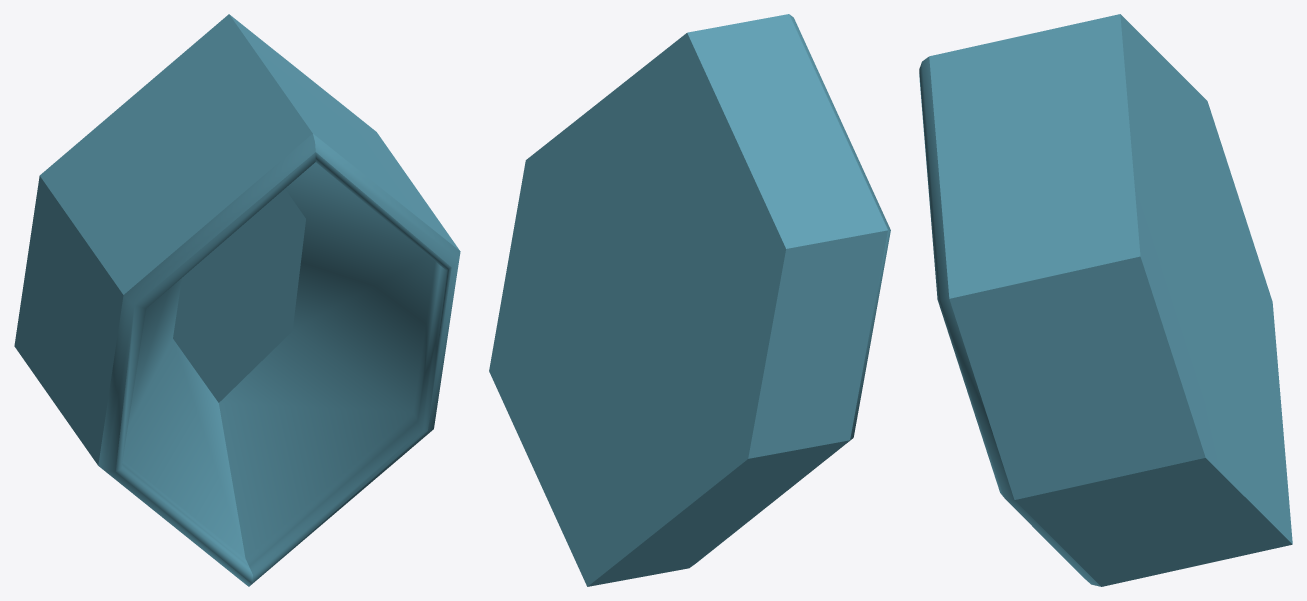
File: BL1_8shapes_Hex_Classic_Metal.001 2.glb
The picture shows the model from 3 angles, left to right: view 1: azimuth 30°, elevation 25°; view 2: azimuth 150°, elevation 25°; view 3: azimuth 270°, elevation 25°; orthographic projection. The views are drawn at different scales.
Parts seen in each view (by area): view 1: BL1_8shapes_Hex_Classic_Metal.001; view 2: BL1_8shapes_Hex_Classic_Metal.001; view 3: BL1_8shapes_Hex_Classic_Metal.001.
Part boxes in pixels (box(x1,y1,x2,y2)): BL1_8shapes_Hex_Classic_Metal.001: box(14, 14, 460, 586); BL1_8shapes_Hex_Classic_Metal.001: box(489, 14, 890, 586); BL1_8shapes_Hex_Classic_Metal.001: box(919, 14, 1292, 586).
Size of the model in its own units: 0.4121 by 0.6941 by 0.4127.
